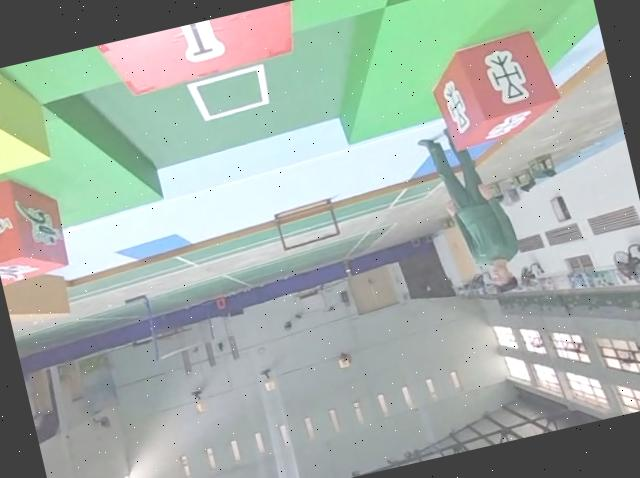R1: (0, 170, 73, 286)
R2 Real: (71, 0, 311, 111), (423, 19, 571, 155)
